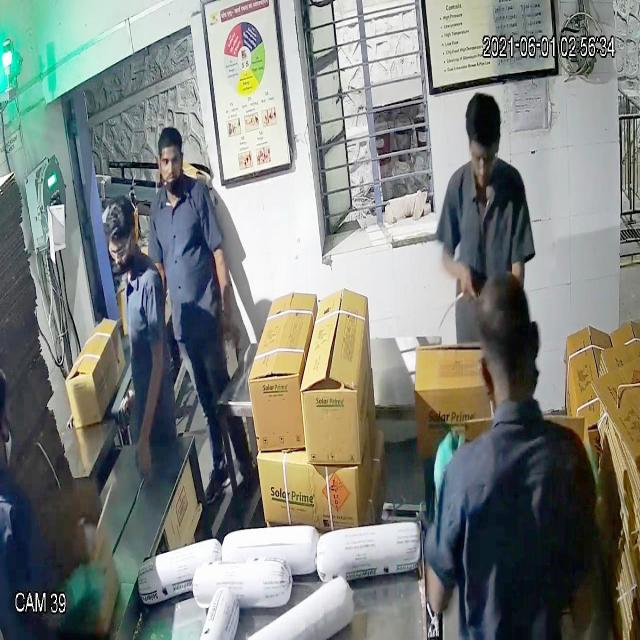glasses: (104, 230, 138, 270)
